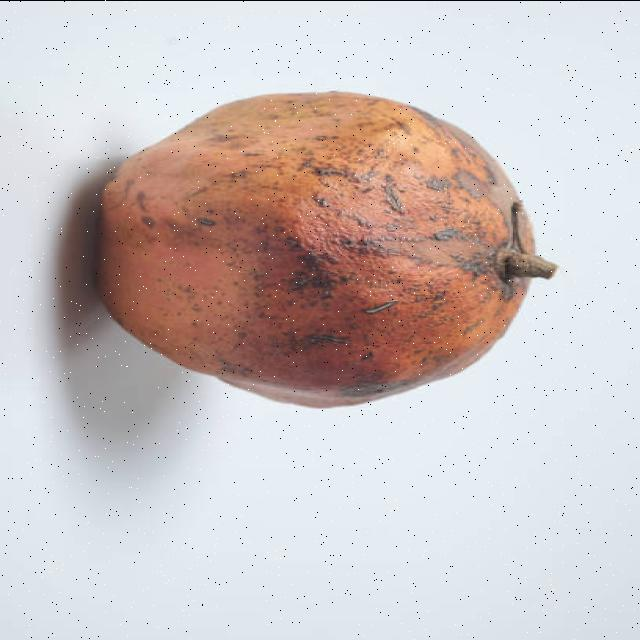overripe: (89, 84, 565, 408)
